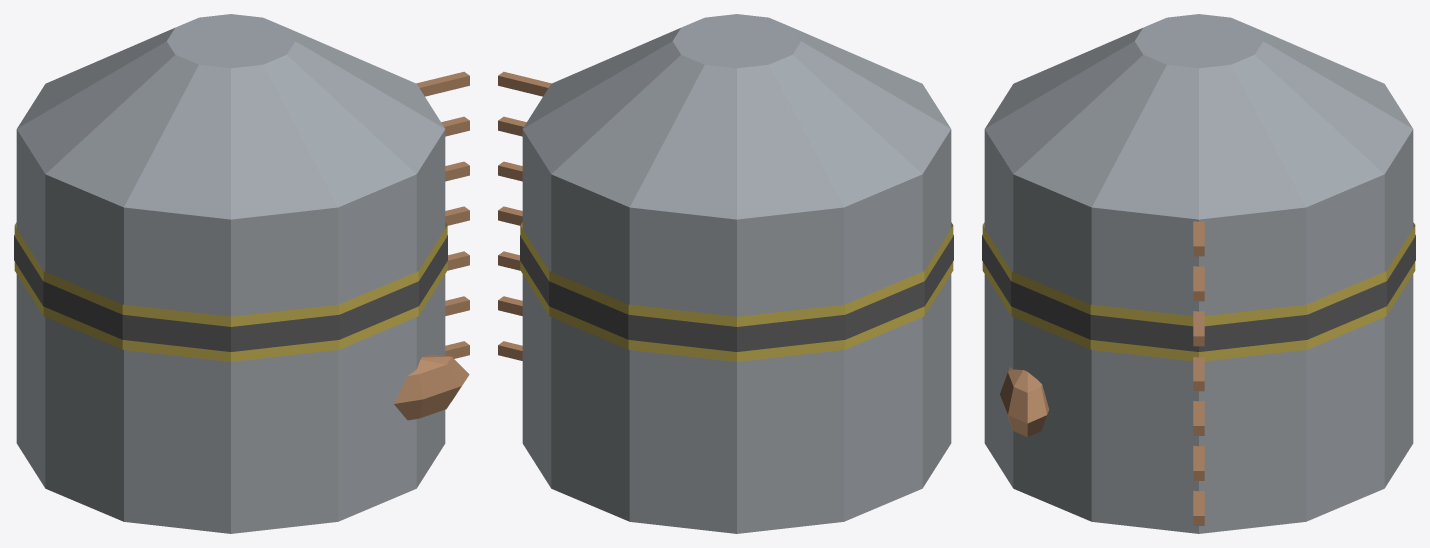
The model's file is valak_tanque_1.glb.
3 renders of one model, left to right at view 1: azimuth 30°, elevation 25°; view 2: azimuth 150°, elevation 25°; view 3: azimuth 270°, elevation 25°, orthographic.
Visible parts, largest first — view 1: tanque; view 2: tanque; view 3: tanque.
Part boxes in pixels (x1,y1,x2,y2): tanque: [14, 14, 469, 533]; tanque: [498, 14, 953, 533]; tanque: [982, 14, 1415, 533].
Bounding box in the file's own units: 1.77 × 1.6 × 1.57.
